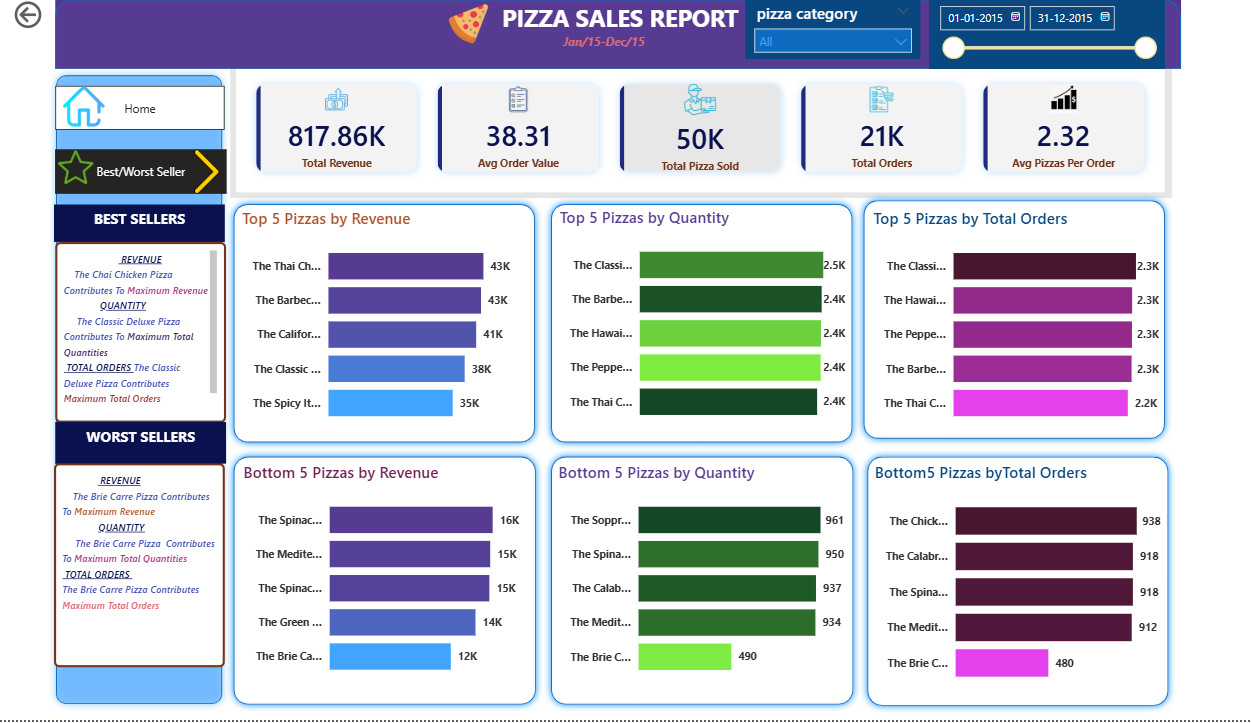

Layout of this report page (visuals, bound fields, positions):
{"tool":"powerbi","page":{"name":"Best/Worst Seller","canvas":[1500,820],"ordinal":1},"visuals":[{"type":"cardVisual","fields":{"Data":["pizza_sales (2).Total Revenue","pizza_sales (2).Avg Order Value","pizza_sales (2).Total Pizza Sold","pizza_sales (2).Total Orders","pizza_sales (2).Avg Pizzas Per Order"]},"box":[262.5,70,1067.5,158.8],"z":0},{"type":"actionButton","box":[13.4,0,43.9,40.2],"z":1000},{"type":"shape","box":[64.3,2.9,1275.7,78.6],"z":2000},{"type":"textbox","box":[555,0,297.5,50],"z":3000},{"type":"textbox","box":[620,36.2,130,33.8],"z":4000},{"type":"image","box":[500,7.5,63.8,46.2],"z":5000},{"type":"shape","box":[257.5,226.2,357.5,286.2],"z":6000},{"type":"shape","box":[57.1,81.4,204.3,728.6],"z":7000},{"type":"textbox","box":[62.5,235,193.8,42.5],"z":8000},{"type":"textbox","box":[63.8,277.5,193.8,205],"z":9000},{"type":"textbox","box":[62.5,528.8,193.8,231.2],"z":10000},{"type":"textbox","box":[63.8,481.2,193.8,47.5],"z":11000},{"type":"slicer","fields":{"Values":["pizza_sales (2).pizza_category"]},"box":[846.2,1.2,198.8,68.8],"z":12000},{"type":"slicer","fields":{"Values":["pizza_sales (2).order_date"]},"box":[1054.3,0,267.1,81.4],"z":13000},{"type":"shape","box":[617.5,226.2,357.5,286.2],"z":14000},{"type":"shape","box":[972.5,222.5,357.5,286.2],"z":15000},{"type":"shape","box":[257.1,512.9,358.6,297.1],"z":16000},{"type":"shape","box":[617.1,512.9,358.6,297.1],"z":17000},{"type":"shape","box":[975.7,512.9,357.1,298.6],"z":18000},{"type":"barChart","title":"Top 5 Pizzas by Revenue","fields":{"Category":["pizza_sales (2).pizza_name"],"Y":["pizza_sales (2).Total Revenue"]},"box":[271.2,240,333.8,257.5],"z":19000},{"type":"barChart","title":"Bottom 5 Pizzas by Revenue","fields":{"Category":["pizza_sales (2).pizza_name"],"Y":["pizza_sales (2).Total Revenue"]},"box":[271.4,527.1,334.3,257.1],"z":20000},{"type":"barChart","title":"Top 5 Pizzas by Quantity","fields":{"Category":["pizza_sales (2).pizza_name"],"Y":["pizza_sales (2).Total Pizza Sold"]},"box":[630,237.5,333.8,257.5],"z":21000},{"type":"barChart","title":"Bottom 5 Pizzas by Quantity","fields":{"Category":["pizza_sales (2).pizza_name"],"Y":["pizza_sales (2).Total Pizza Sold"]},"box":[628.8,527.5,333.8,257.5],"z":22000},{"type":"barChart","title":"Top 5 Pizzas by Total Orders","fields":{"Category":["pizza_sales (2).pizza_name"],"Y":["pizza_sales (2).Total Orders"]},"box":[986.2,240,333.8,257.5],"z":23000},{"type":"barChart","title":"Bottom5 Pizzas byTotal Orders","fields":{"Category":["pizza_sales (2).pizza_name"],"Y":["pizza_sales (2).Total Orders"]},"box":[987.1,527.1,334.3,265.7],"z":24000},{"type":"pageNavigator","box":[64.3,172.9,194.3,50],"z":25000},{"type":"pageNavigator","box":[64.3,100,192.9,50],"z":26000},{"type":"image","box":[200,172.9,71.4,50],"z":27000},{"type":"image","box":[64.3,100,64.3,47.1],"z":28000},{"type":"image","box":[64.3,172.9,45.7,40],"z":29000}]}

Visuals, with their boxes on the page's 1500x820 design canvas (x1, y1, x2, y2). These are canvas units, not pixel positions in the 1251x723 screenshot, which may show the page scaled, cropped or inside an application window:
cardVisual - pizza_sales (2).Total Revenue x pizza_sales (2).Avg Order Value: <box>262,70,1330,229</box>
actionButton: <box>13,0,57,40</box>
shape: <box>64,3,1340,82</box>
textbox: <box>555,0,852,50</box>
textbox: <box>620,36,750,70</box>
image: <box>500,8,564,54</box>
shape: <box>258,226,615,512</box>
shape: <box>57,81,261,810</box>
textbox: <box>62,235,256,278</box>
textbox: <box>64,278,258,482</box>
textbox: <box>62,529,256,760</box>
textbox: <box>64,481,258,529</box>
slicer - pizza_sales (2).pizza_category: <box>846,1,1045,70</box>
slicer - pizza_sales (2).order_date: <box>1054,0,1321,81</box>
shape: <box>618,226,975,512</box>
shape: <box>972,222,1330,509</box>
shape: <box>257,513,616,810</box>
shape: <box>617,513,976,810</box>
shape: <box>976,513,1333,812</box>
"Top 5 Pizzas by Revenue" barChart: <box>271,240,605,498</box>
"Bottom 5 Pizzas by Revenue" barChart: <box>271,527,606,784</box>
"Top 5 Pizzas by Quantity" barChart: <box>630,238,964,495</box>
"Bottom 5 Pizzas by Quantity" barChart: <box>629,528,963,785</box>
"Top 5 Pizzas by Total Orders" barChart: <box>986,240,1320,498</box>
"Bottom5 Pizzas byTotal Orders" barChart: <box>987,527,1321,793</box>
pageNavigator: <box>64,173,259,223</box>
pageNavigator: <box>64,100,257,150</box>
image: <box>200,173,271,223</box>
image: <box>64,100,129,147</box>
image: <box>64,173,110,213</box>
